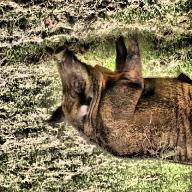boar: (38, 4, 191, 170)
